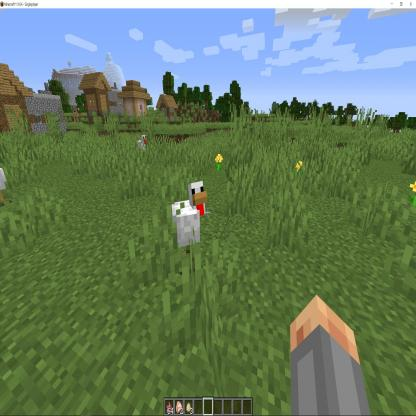minecraft-pigs: (171, 175, 210, 265), (136, 133, 149, 158)
